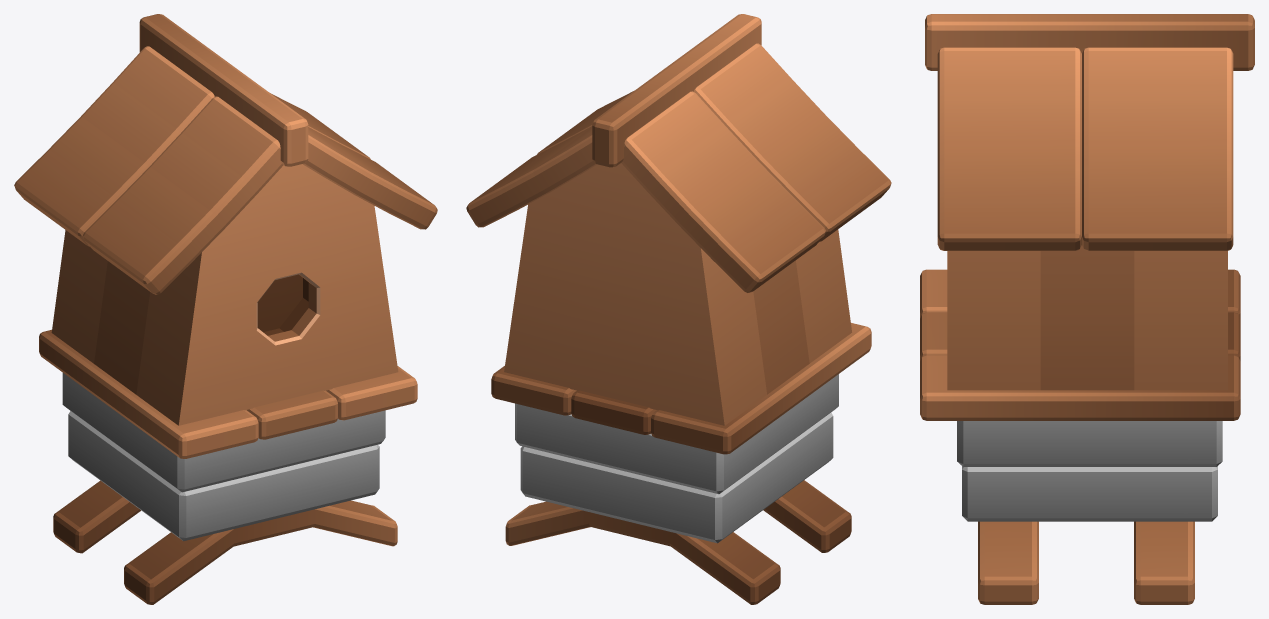
File: mt_prop_beehouse.fbx
The picture shows the model from 3 angles, left to right: view 1: azimuth 30°, elevation 25°; view 2: azimuth 150°, elevation 25°; view 3: azimuth 270°, elevation 25°; orthographic projection. The views are drawn at different scales.
Parts seen in each view (by area): view 1: prop_beehouse; view 2: prop_beehouse; view 3: prop_beehouse.
Boxes of the visible parts, x1=… form: prop_beehouse: x1=14, y1=14, x2=437, y2=604; prop_beehouse: x1=466, y1=14, x2=891, y2=604; prop_beehouse: x1=920, y1=14, x2=1254, y2=604.
Size of the model in its own units: 111 by 170 by 98.74.
